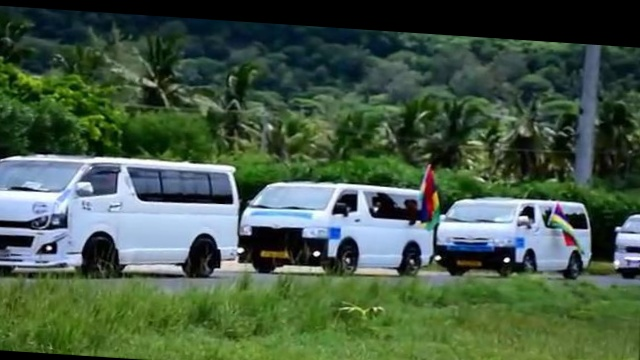van: (0, 145, 237, 291), (230, 170, 445, 277), (432, 187, 596, 276)
